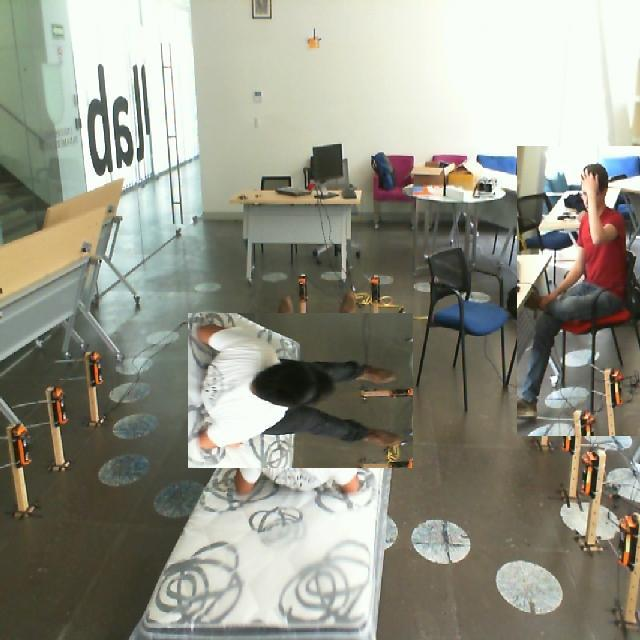Fall: (190, 302, 425, 492)
NotFall: (503, 171, 640, 447)
